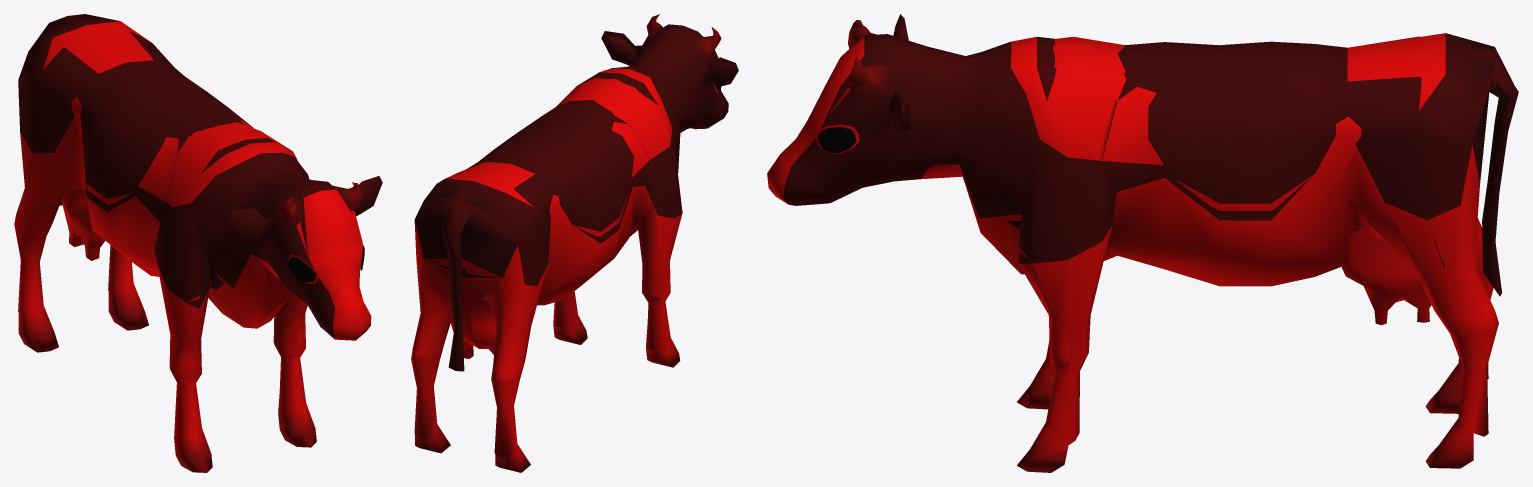
File: Animals_HolsteinCow.fbx
3 renders of one model, left to right at view 1: azimuth 30°, elevation 25°; view 2: azimuth 150°, elevation 25°; view 3: azimuth 270°, elevation 25°, orthographic. The views are drawn at different scales.
Visible parts, largest first — view 1: alt582, alt583; view 2: alt582, alt583; view 3: alt582, alt583.
Part boxes in pixels (x1,y1,x2,y2): alt582: (14, 31, 382, 472); alt583: (22, 14, 371, 459); alt582: (411, 14, 738, 472); alt583: (415, 24, 735, 365); alt582: (767, 14, 1518, 472); alt583: (767, 14, 1494, 463).
Bounding box in the file's own units: 66.62 × 131 × 226.
